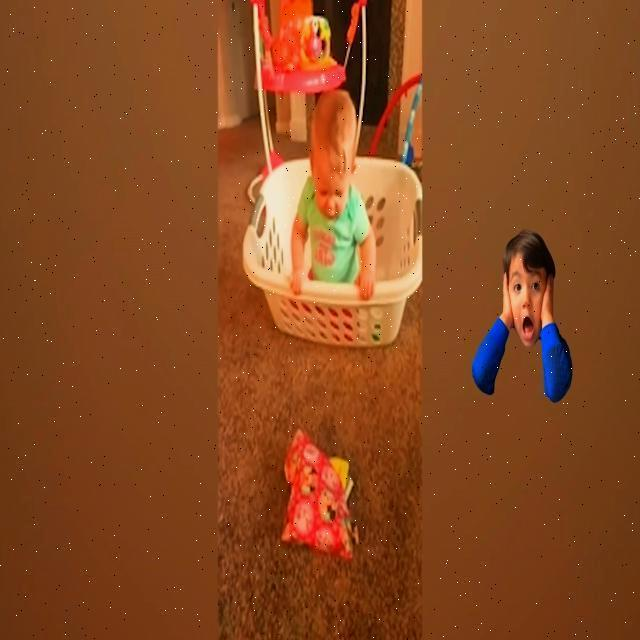child: (290, 85, 376, 338)
